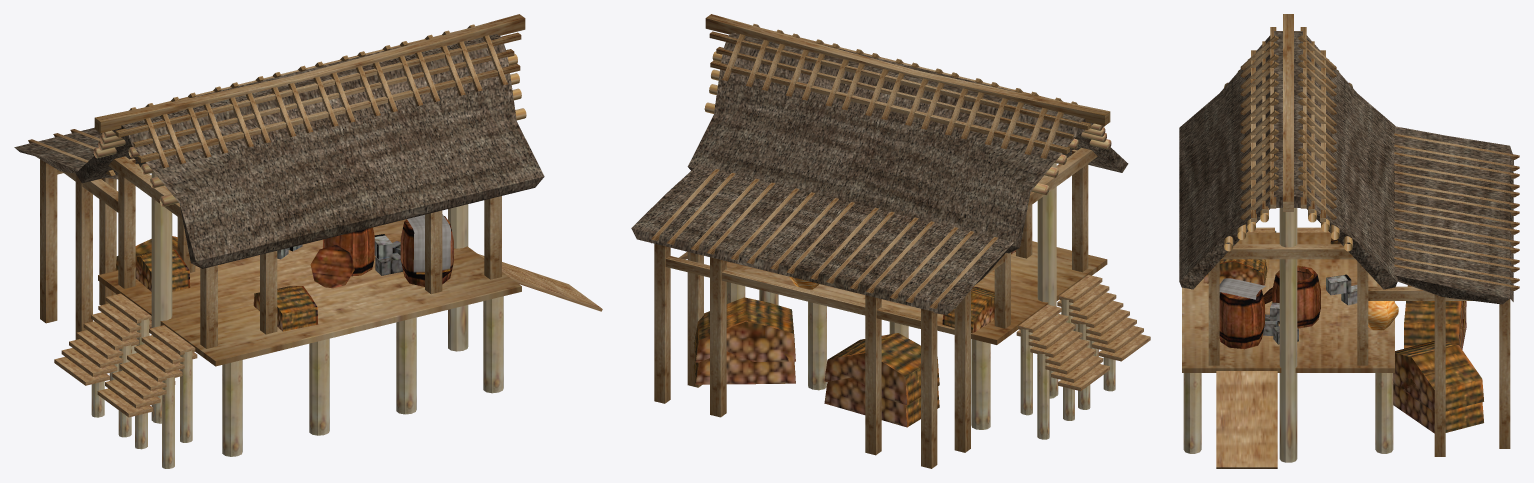
File: yayoi_storehouse.dae
The picture shows the model from 3 angles, left to right: view 1: azimuth 30°, elevation 25°; view 2: azimuth 150°, elevation 25°; view 3: azimuth 270°, elevation 25°; orthographic projection. The views are drawn at different scales.
Parts seen in each view (by area): view 1: storehouse; view 2: storehouse; view 3: storehouse.
Boxes of the visible parts, x1=… form: storehouse: x1=14, y1=14, x2=602, y2=468; storehouse: x1=631, y1=14, x2=1150, y2=468; storehouse: x1=1179, y1=14, x2=1519, y2=468.
Bounding box in the file's own units: 19.23 × 13.24 × 12.77.
1 material, 1 textured.
